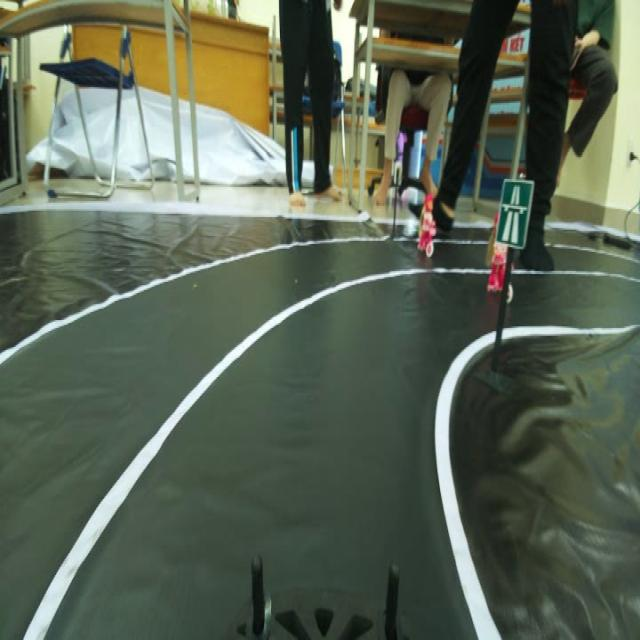highway_entry: (497, 177, 535, 252)
pedestrian: (413, 192, 441, 255), (485, 244, 512, 304)
